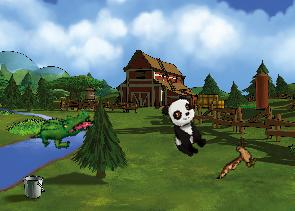crocodile: (29, 96, 97, 162)
eagle: (216, 133, 261, 186)
panda: (158, 93, 212, 160)
